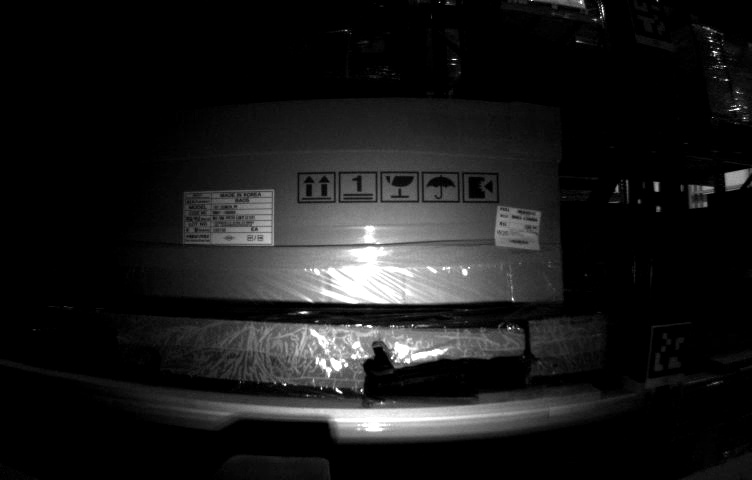True Barcode: (498, 202, 542, 252)
